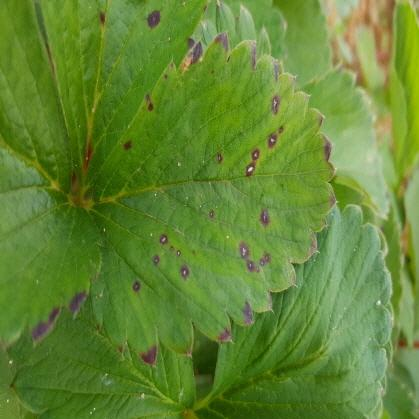Leaf Spot: (80, 29, 337, 367), (39, 0, 210, 192)
